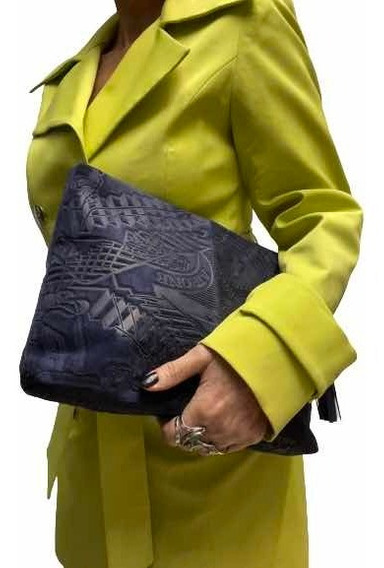cartera: (17, 162, 348, 455)
